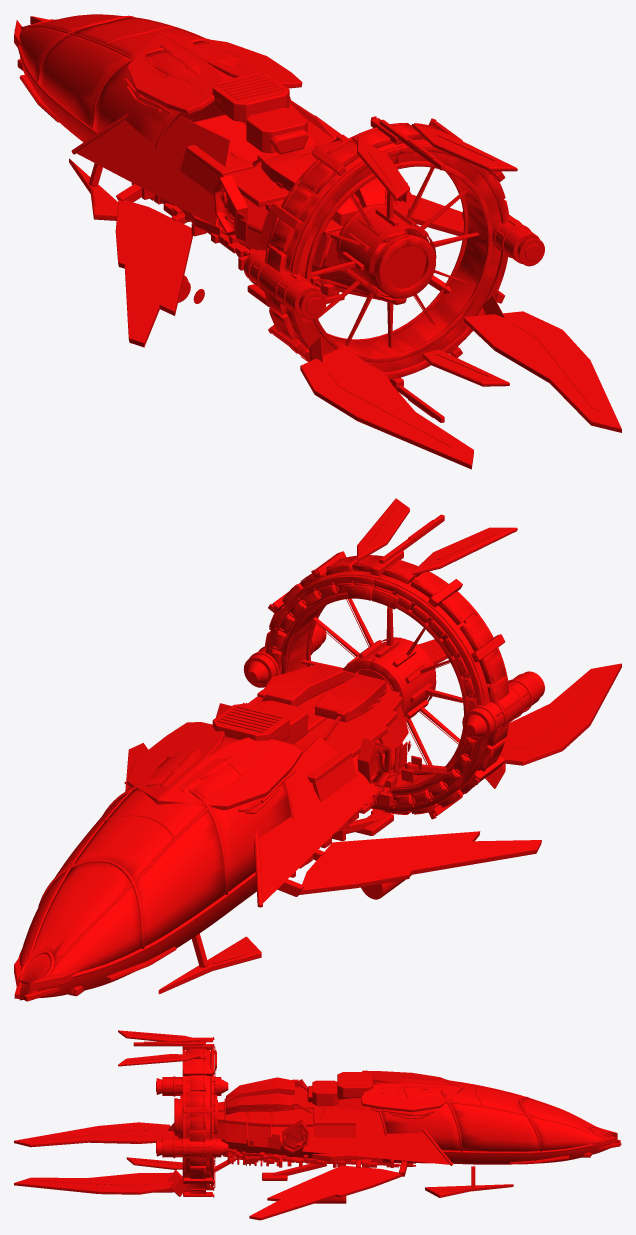
The model's file is OCASO-1.obj.
3 renders of one model, top to bottom at view 1: azimuth 30°, elevation 25°; view 2: azimuth 150°, elevation 25°; view 3: azimuth 270°, elevation 25°, orthographic. The views are drawn at different scales.
Bounding box in the file's own units: 8.06 × 4.9 × 18.
